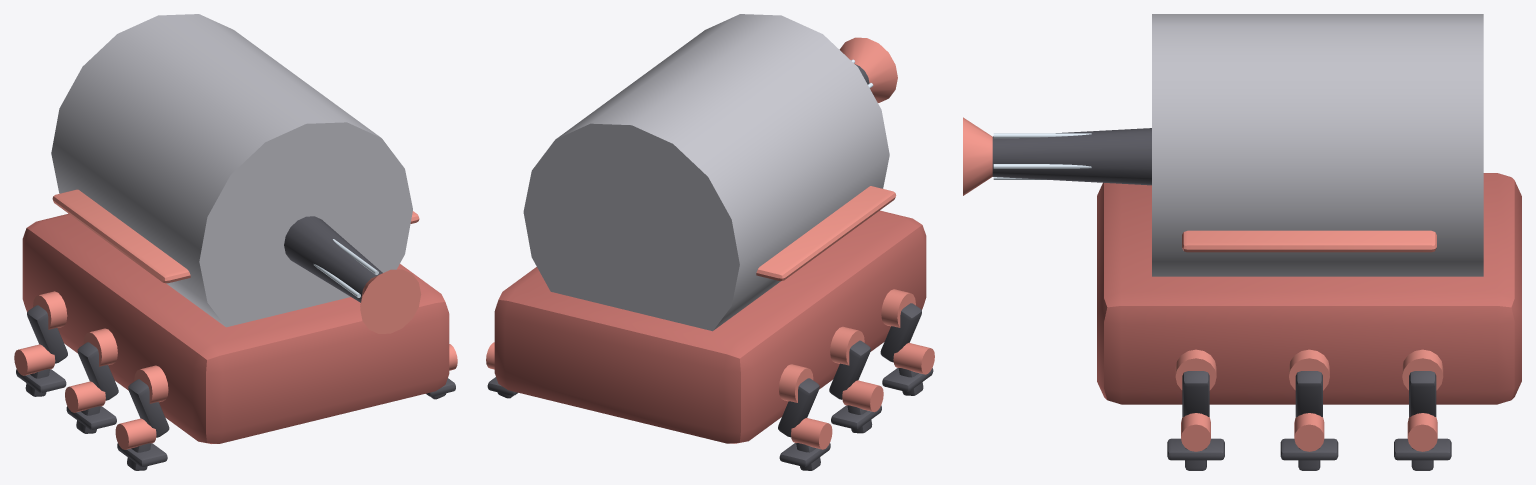
File: green_warden.glb
3 views of the same model, side by side, from view 1: azimuth 30°, elevation 25°; view 2: azimuth 150°, elevation 25°; view 3: azimuth 270°, elevation 25° (orthographic). The views are drawn at different scales.
Parts seen in each view (by area): view 1: hull_static, turret; view 2: hull_static, turret; view 3: hull_static, turret.
Part boxes in pixels (left/top/right/bottom): hull_static: left=14, top=14, right=457, bottom=470; turret: left=284, top=216, right=421, bottom=333; hull_static: left=486, top=14, right=934, bottom=470; turret: left=839, top=37, right=897, bottom=102; hull_static: left=1097, top=14, right=1521, bottom=470; turret: left=963, top=117, right=1151, bottom=195.
Size of the model in its own units: 3.1 by 2.91 by 4.08.
